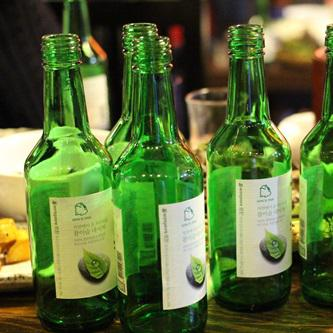soju: (24, 22, 333, 330)
